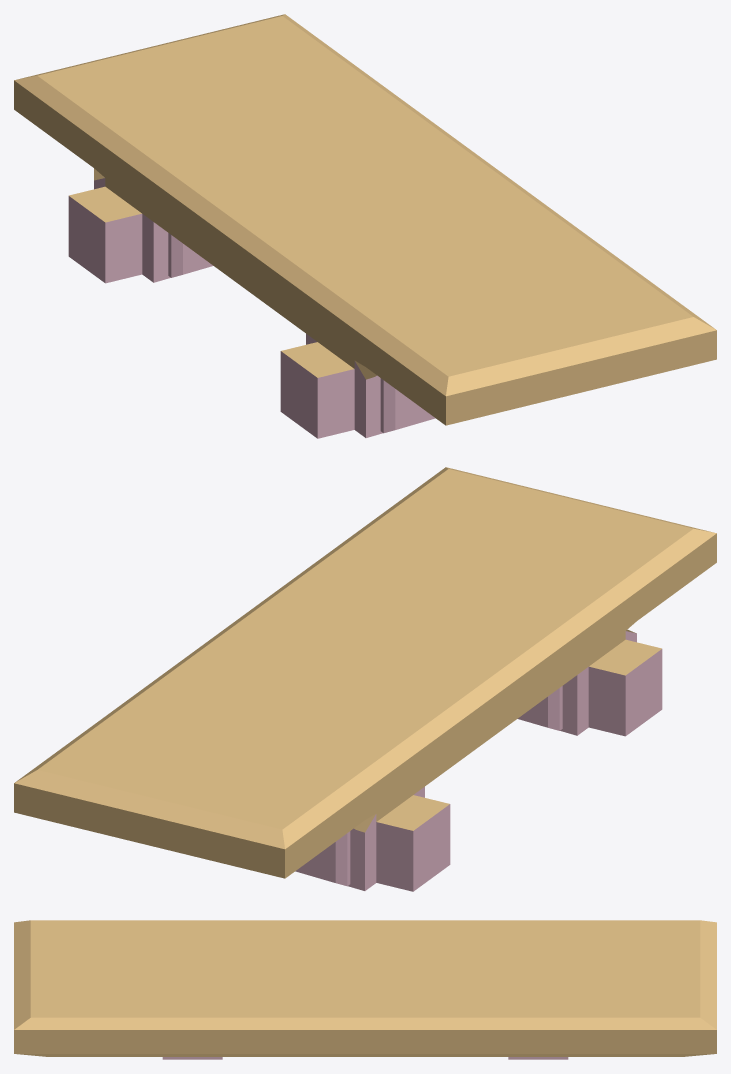
File: shelf.fbx
The picture shows the model from 3 angles, top to bottom: view 1: azimuth 30°, elevation 25°; view 2: azimuth 150°, elevation 25°; view 3: azimuth 270°, elevation 25°; orthographic projection. The views are drawn at different scales.
Parts seen in each view (by area): view 1: Cube.034; view 2: Cube.034; view 3: Cube.034.
Boxes of the visible parts, left/top/right/bottom form: Cube.034: left=14, top=14, right=716, bottom=438; Cube.034: left=14, top=467, right=716, bottom=891; Cube.034: left=14, top=920, right=716, bottom=1059.
Bounding box in the file's own units: 103 × 35.03 × 251.
